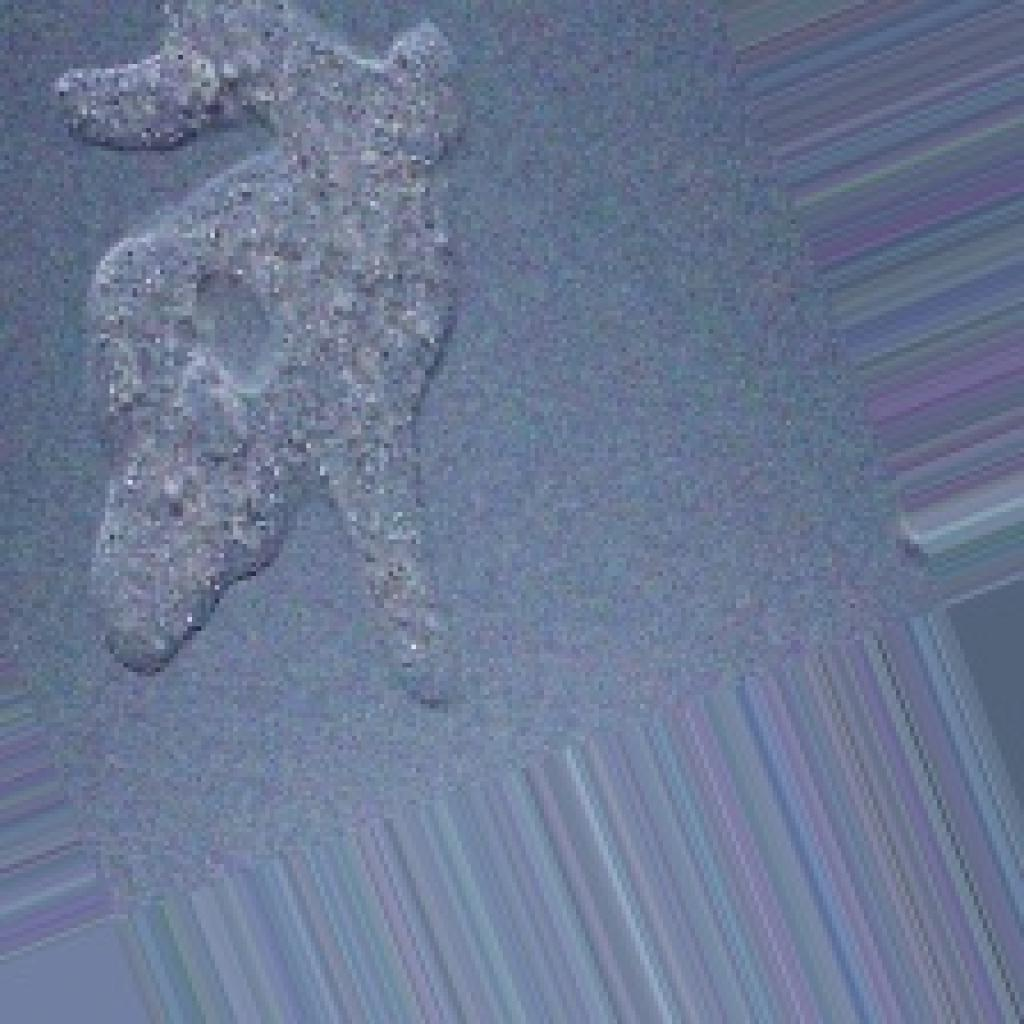Amoeba: (46, 0, 471, 709)
